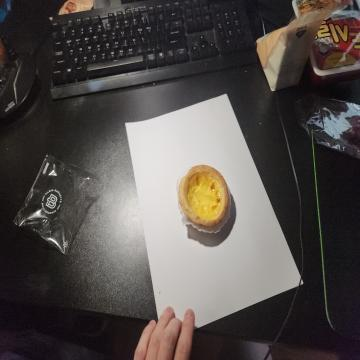EggTart: (178, 164, 230, 227)
